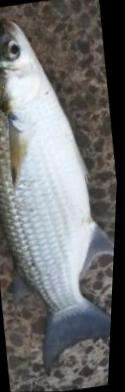fish: (0, 18, 116, 367)
